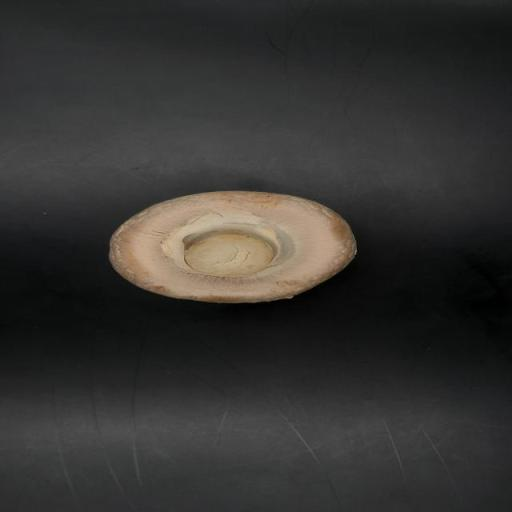mushroom: (108, 189, 359, 306)
